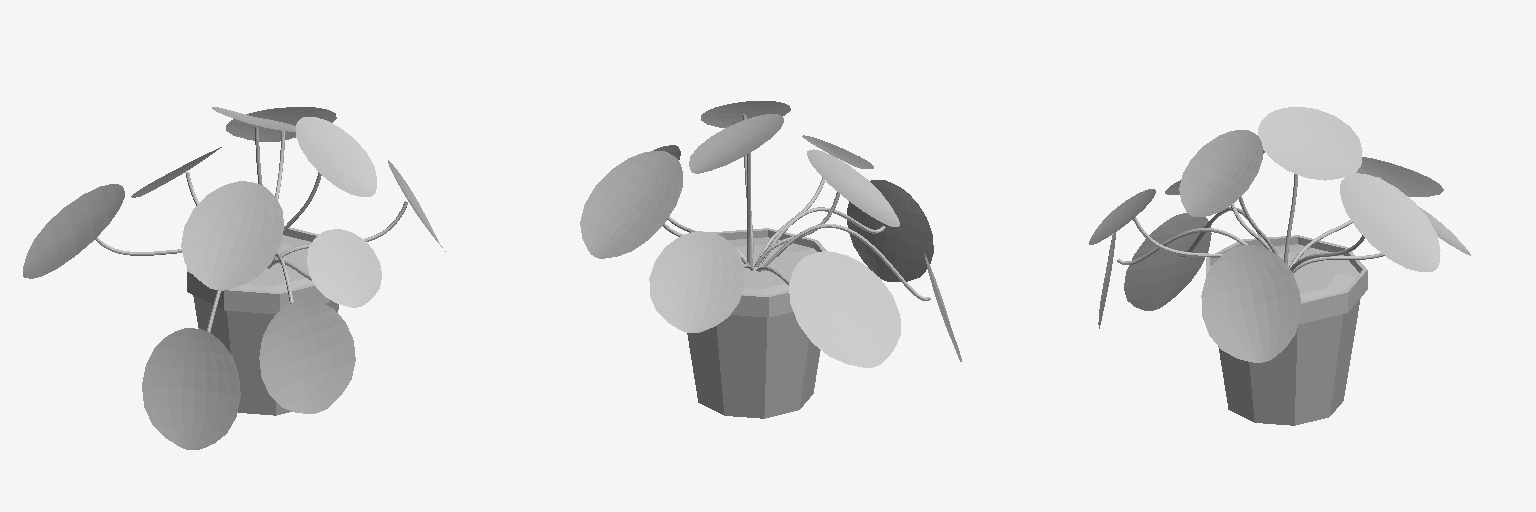
The model's file is Chinese Money Plant .obj.
The picture shows the model from 3 angles: view 1: azimuth 30°, elevation 25°; view 2: azimuth 150°, elevation 25°; view 3: azimuth 270°, elevation 25°; orthographic projection.
Parts seen in each view (by area): view 1: Plane.007, Cylinder, Plane.006, Plane, Plane.009, Plane.003, Plane.008, Plane.010, Plane.005, Plane.004, Plane.011; view 2: Cylinder, Plane.009, Plane.010, Plane.004, Plane.006, Plane.005, Plane, Plane.008, Cylinder.009, Plane.003, Cylinder.008; view 3: Cylinder, Plane.011, Plane.010, Plane.005, Plane.008, Plane.007, Plane.009, Plane.003, Cylinder.008.
Part boxes in pixels (left/top/right/bottom): Plane.007: left=142, top=328, right=240, bottom=449; Cylinder: left=187, top=226, right=338, bottom=415; Plane.006: left=259, top=299, right=355, bottom=413; Plane: left=181, top=181, right=283, bottom=290; Plane.009: left=23, top=184, right=124, bottom=278; Plane.003: left=307, top=229, right=381, bottom=307; Plane.008: left=295, top=117, right=376, bottom=196; Plane.010: left=226, top=107, right=336, bottom=141; Plane.005: left=212, top=107, right=295, bottom=131; Plane.004: left=131, top=147, right=221, bottom=197; Plane.011: left=388, top=160, right=445, bottom=251; Cylinder: left=687, top=228, right=826, bottom=418; Plane.009: left=789, top=251, right=900, bottom=367; Plane.010: left=580, top=151, right=682, bottom=258; Plane.004: left=649, top=231, right=744, bottom=332; Plane.006: left=847, top=180, right=933, bottom=281; Plane.005: left=689, top=114, right=783, bottom=173; Plane: left=807, top=149, right=899, bottom=226; Plane.008: left=701, top=101, right=790, bottom=127; Cylinder.009: left=762, top=224, right=930, bottom=300; Plane.003: left=802, top=135, right=873, bottom=168; Cylinder.008: left=760, top=207, right=885, bottom=264; Cylinder: left=1206, top=235, right=1367, bottom=425; Plane.011: left=1201, top=245, right=1300, bottom=362; Plane.010: left=1340, top=173, right=1440, bottom=271; Plane.005: left=1258, top=107, right=1362, bottom=180; Plane.008: left=1179, top=130, right=1262, bottom=216; Plane.007: left=1124, top=213, right=1211, bottom=310; Plane.009: left=1356, top=157, right=1443, bottom=196; Plane.003: left=1089, top=189, right=1155, bottom=244; Cylinder.008: left=1117, top=228, right=1247, bottom=264.
Size of the model in its own units: 3.35 by 2.55 by 3.17.